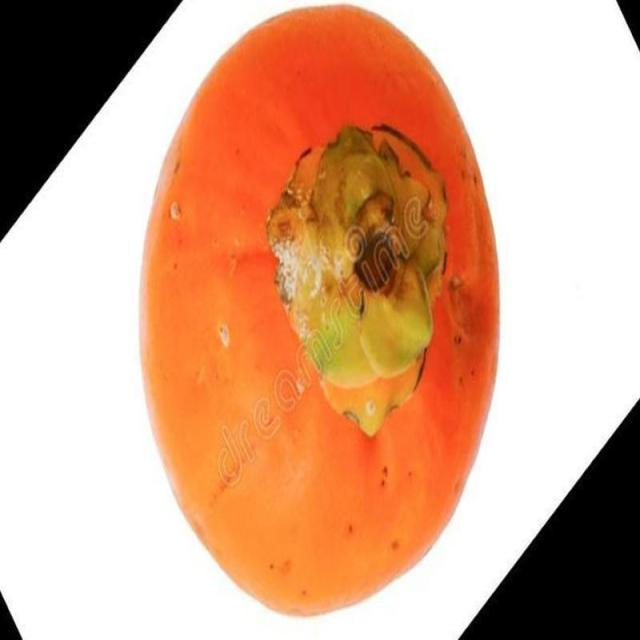good: (138, 5, 503, 620)
